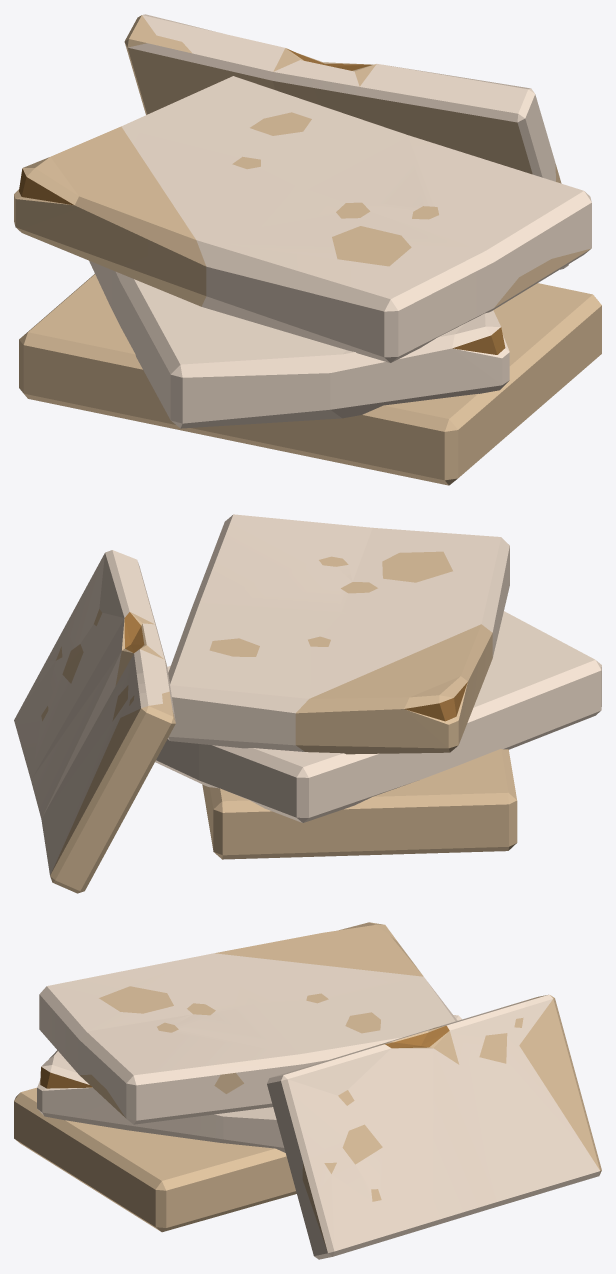
The model's file is apocalypse_mattress-pile-apocalypse.fbx.
3 views of the same model, one above another, from view 1: azimuth 30°, elevation 25°; view 2: azimuth 150°, elevation 25°; view 3: azimuth 270°, elevation 25° (orthographic). The views are drawn at different scales.
Parts seen in each view (by area): view 1: apocalypse_mattress_pile_apocalypse; view 2: apocalypse_mattress_pile_apocalypse; view 3: apocalypse_mattress_pile_apocalypse.
Boxes of the visible parts, x1=… form: apocalypse_mattress_pile_apocalypse: x1=14, y1=14, x2=601, y2=485; apocalypse_mattress_pile_apocalypse: x1=14, y1=514, x2=601, y2=893; apocalypse_mattress_pile_apocalypse: x1=14, y1=922, x2=601, y2=1259.
Bounding box in the file's own units: 171 × 61.76 × 200.
